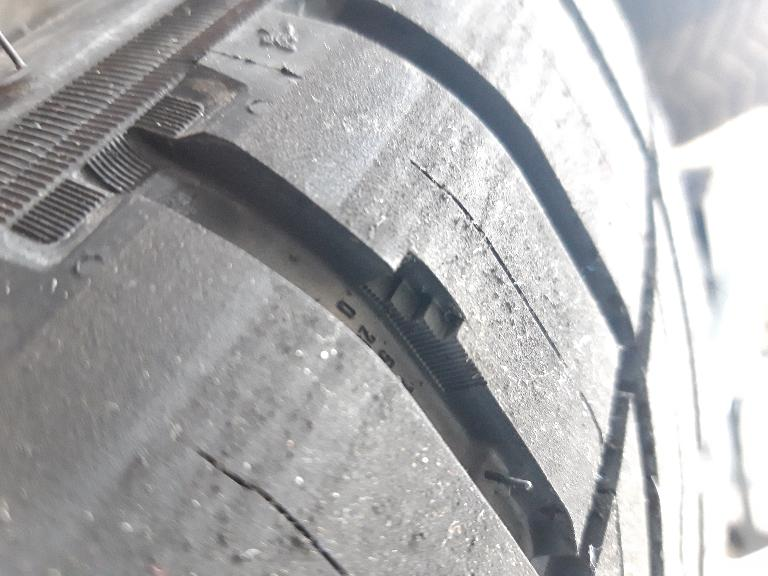temoin:75: (349, 240, 486, 374)
